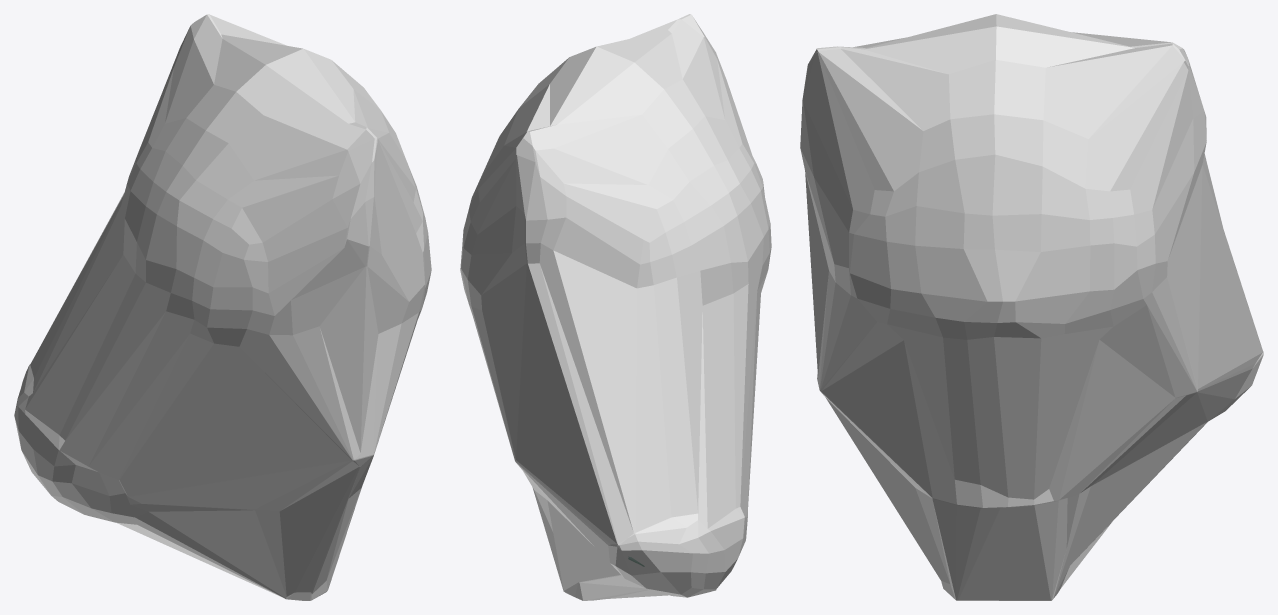
The model's file is Doll_Raccon02.fbx.
The picture shows the model from 3 angles, left to right: view 1: azimuth 30°, elevation 25°; view 2: azimuth 150°, elevation 25°; view 3: azimuth 270°, elevation 25°; orthographic projection. The views are drawn at different scales.
Parts seen in each view (by area): view 1: Raccon.001; view 2: Raccon.001; view 3: Raccon.001.
Boxes of the visible parts, left/top/right/bottom form: Raccon.001: left=14, top=14, right=431, bottom=600; Raccon.001: left=460, top=14, right=771, bottom=600; Raccon.001: left=800, top=14, right=1263, bottom=600.
Bounding box in the file's own units: 53.57 × 88.39 × 64.42.
